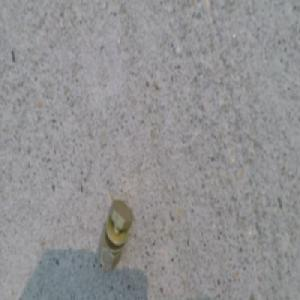BoltNutSet: (103, 194, 136, 266)
